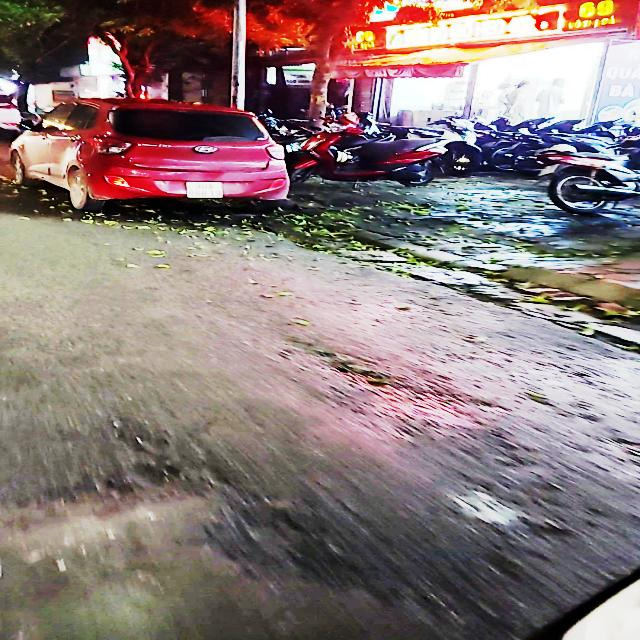license_plate: (188, 182, 227, 200)
